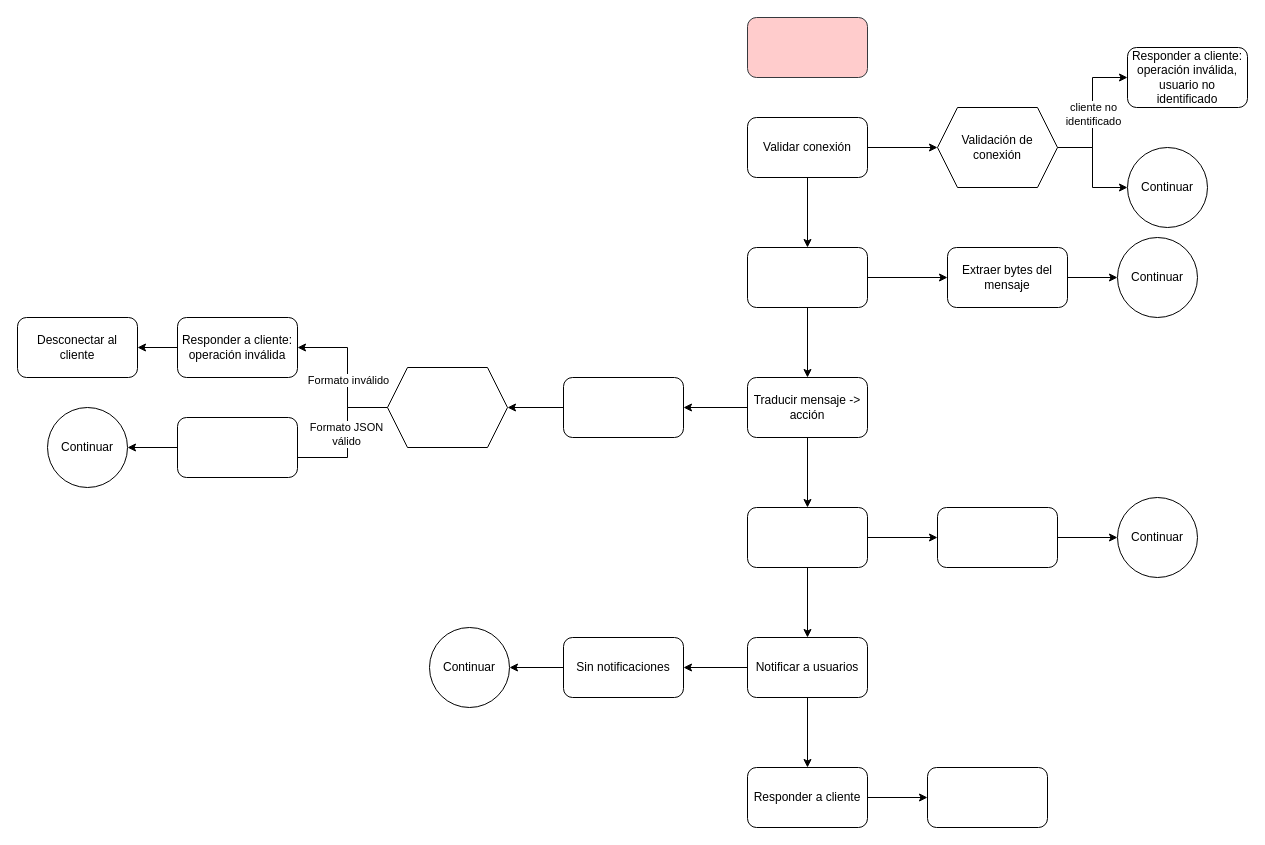
Some shapes in this 1265 by 845 pixel diagram are drawn without their labels. Each missing label, with the centre of its shape:
"Acción Extraer usuarios conectados" belongs at point (807, 537).
"Extraer nombre y estado de usuarios de la base de datos" belongs at point (997, 537).
"Recibir mensaje por red" belongs at point (807, 277).
"Responder a cliente: Diccionario de usuarios con usuario-estado" belongs at point (987, 797).
"Servidor: Solicitar usuarios conectados al chat" belongs at point (807, 47).
"Traducir bytes a cadena" belongs at point (623, 407).
"Traducir JSON a acción: extraer usuarios conectados" belongs at point (237, 447).
"Validación de cadena" belongs at point (447, 407).
